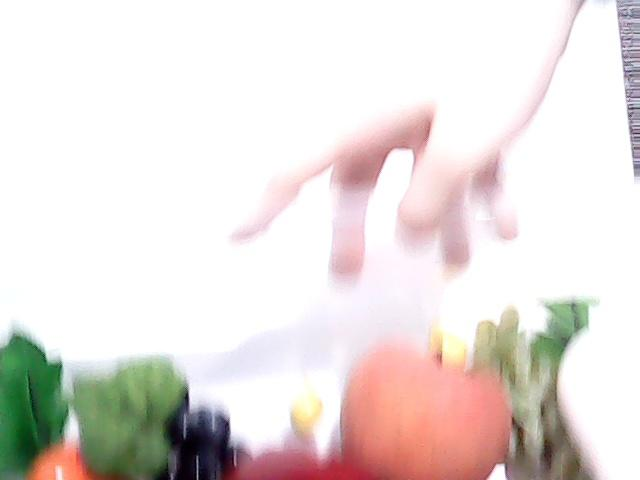apple: (232, 448, 374, 480)
carrot: (0, 324, 122, 480)
peach: (338, 340, 514, 480)
radish: (531, 298, 640, 480)
